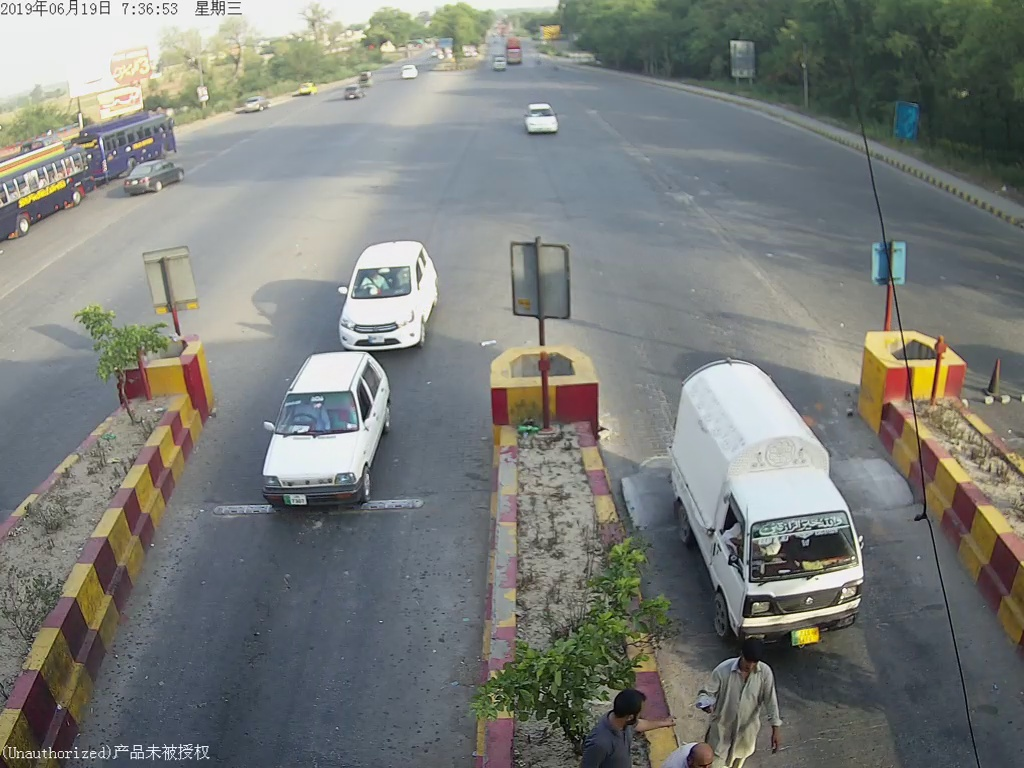Cat-1: (667, 356, 867, 647), (259, 346, 391, 508), (331, 237, 444, 352), (521, 98, 564, 139)
